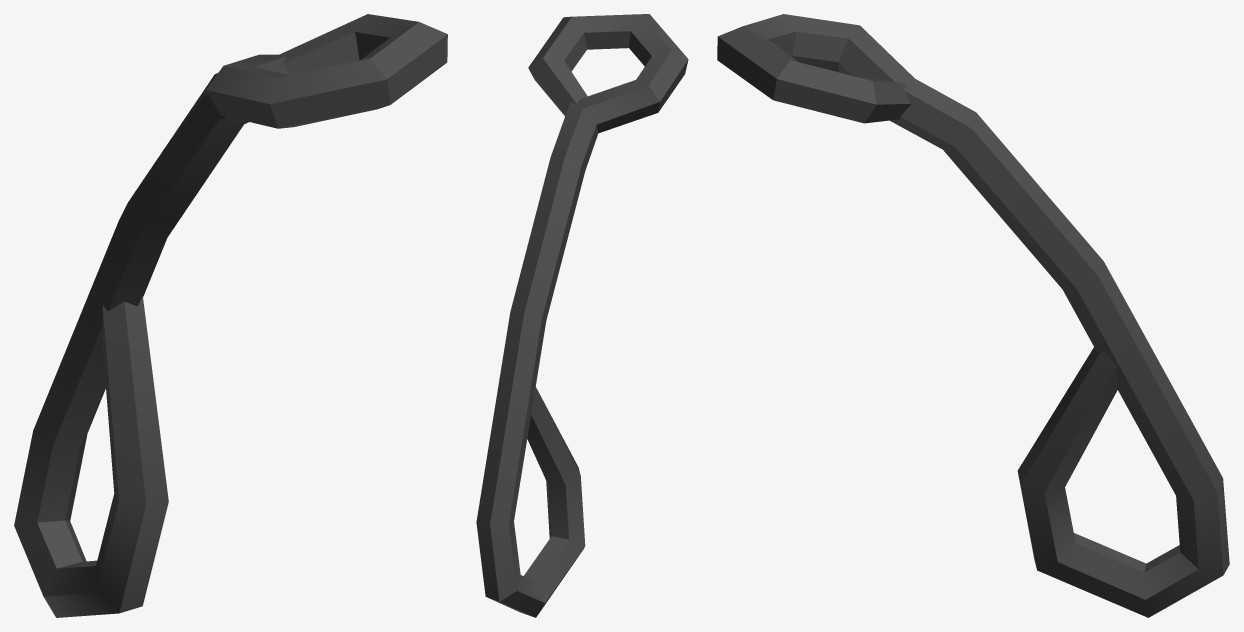
The model's file is rope_1.FBX.
3 views of the same model, side by side, from view 1: azimuth 30°, elevation 25°; view 2: azimuth 150°, elevation 25°; view 3: azimuth 270°, elevation 25° (orthographic). The views are drawn at different scales.
Parts seen in each view (by area): view 1: rope_1; view 2: rope_1; view 3: rope_1.
Boxes of the visible parts, box(x1,y1,x2,y2) form: rope_1: box(14, 14, 447, 617); rope_1: box(476, 14, 688, 617); rope_1: box(717, 14, 1229, 617).
Size of the model in its own units: 3.87 by 13.65 by 10.3.
